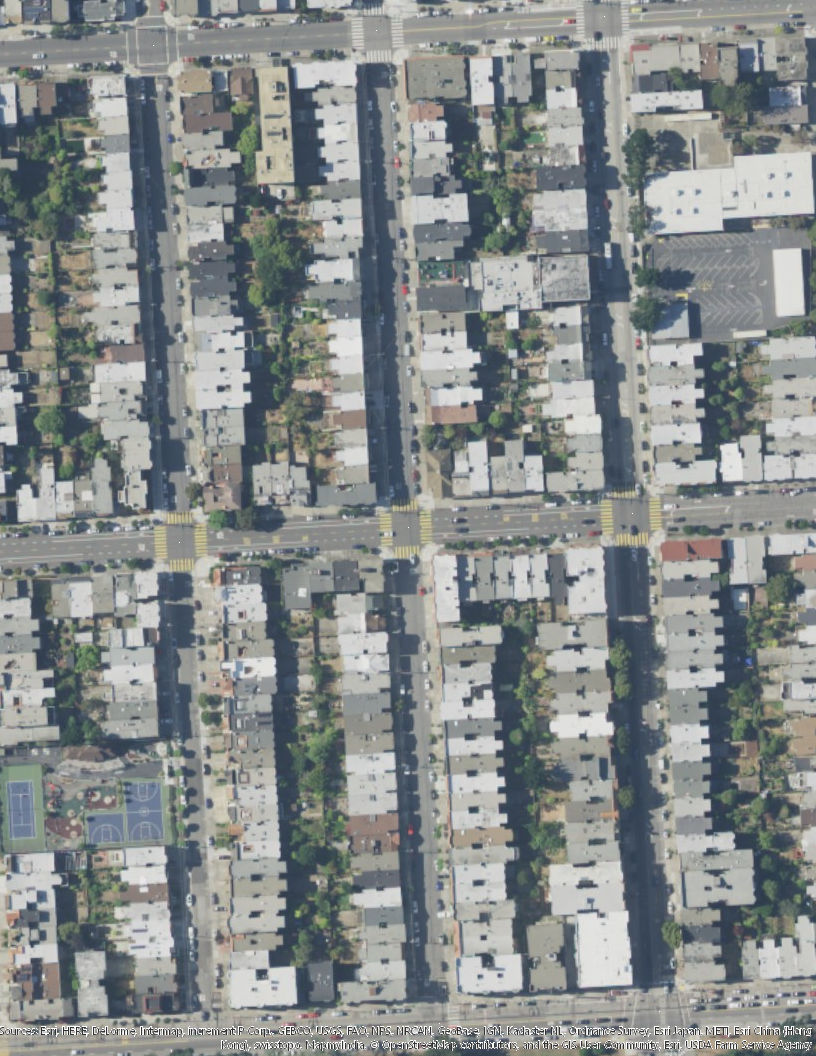zebracross: (611, 484, 642, 503), (586, 36, 625, 51), (377, 509, 392, 546), (152, 526, 168, 560), (166, 509, 195, 525), (194, 526, 208, 559), (350, 17, 364, 48), (390, 17, 404, 48), (615, 534, 648, 547), (366, 48, 391, 65), (600, 503, 613, 535), (421, 508, 432, 544), (575, 1, 586, 36), (363, 2, 387, 18), (619, 1, 630, 33), (393, 546, 420, 559), (392, 498, 419, 510), (170, 559, 195, 571)
